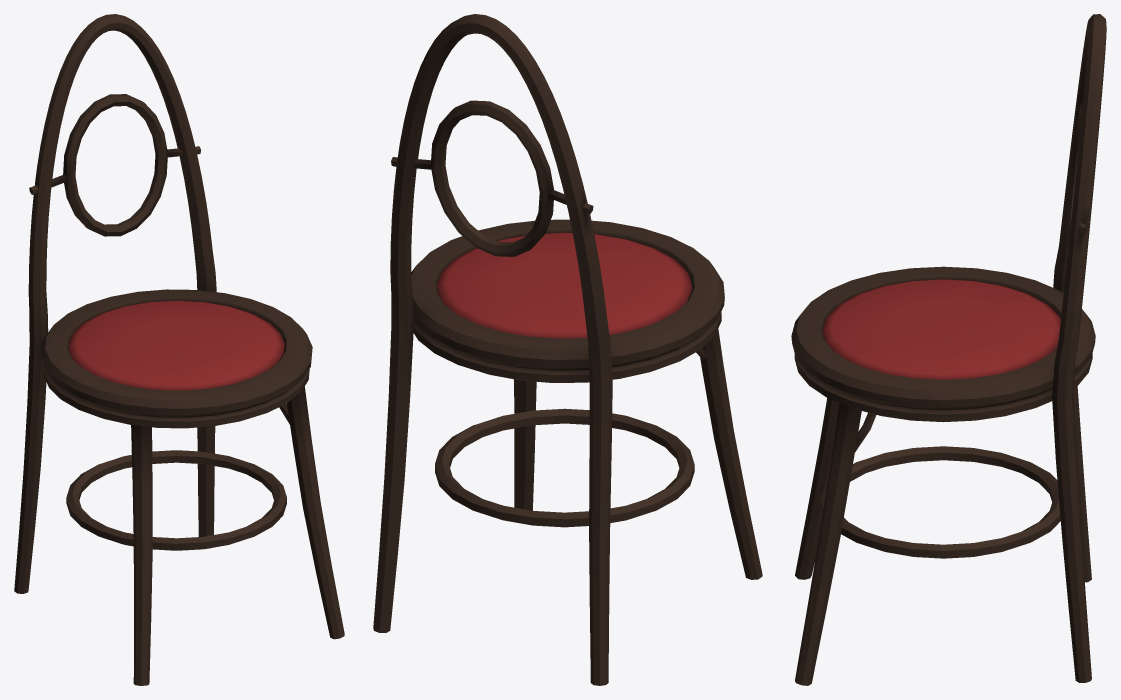
The model's file is chairBentwood.glb.
3 renders of one model, left to right at view 1: azimuth 30°, elevation 25°; view 2: azimuth 150°, elevation 25°; view 3: azimuth 270°, elevation 25°, orthographic. The views are drawn at different scales.
Parts seen in each view (by area): view 1: chairBentwood; view 2: chairBentwood; view 3: chairBentwood.
Part boxes in pixels (<box>): chairBentwood: <box>14,14,344,685</box>; chairBentwood: <box>373,14,762,685</box>; chairBentwood: <box>791,14,1106,685</box>.
Size of the model in its own units: 0.434 by 0.9625 by 0.4495.
